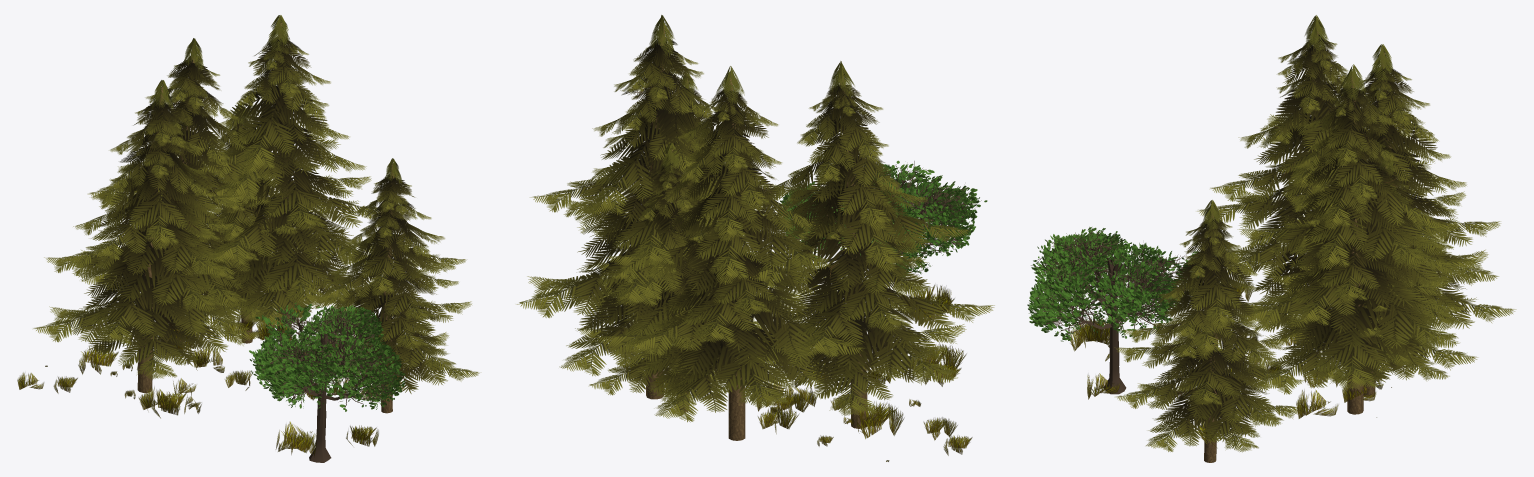
3 views of the same model, side by side, from view 1: azimuth 30°, elevation 25°; view 2: azimuth 150°, elevation 25°; view 3: azimuth 270°, elevation 25° (orthographic). The views are drawn at different scales.
Parts seen in each view (by area): view 1: Low Poly Stylized 2D Grass.143; view 2: Low Poly Stylized 2D Grass.143; view 3: Low Poly Stylized 2D Grass.143.
Boxes of the visible parts, x1,y1,x2,y2 form: Low Poly Stylized 2D Grass.143: (17, 15, 479, 462); Low Poly Stylized 2D Grass.143: (516, 15, 994, 461); Low Poly Stylized 2D Grass.143: (1027, 15, 1516, 462).
Bounding box in the file's own units: 16.7 × 14.78 × 17.52.
Materials: 5 (4 with a texture image).
